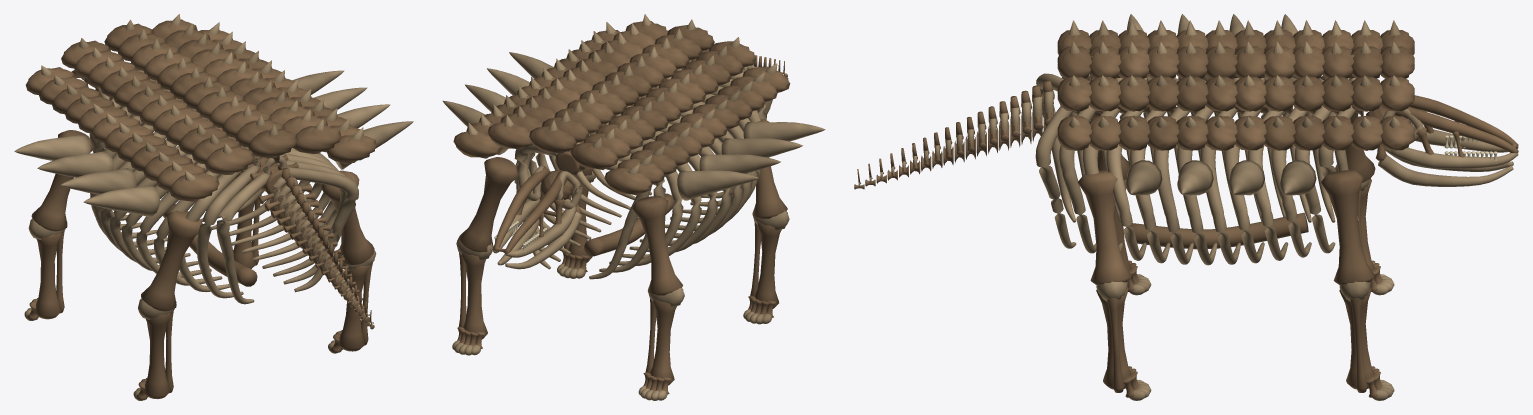
3 views of the same model, side by side, from view 1: azimuth 30°, elevation 25°; view 2: azimuth 150°, elevation 25°; view 3: azimuth 270°, elevation 25° (orthographic). The views are drawn at different scales.
Parts seen in each view (by area): view 1: D03_SPEC_Fossil umber_export, D03_SPEC_Fossil ridge_export; view 2: D03_SPEC_Fossil umber_export, D03_SPEC_Fossil ridge_export; view 3: D03_SPEC_Fossil umber_export, D03_SPEC_Fossil ridge_export.
Boxes of the visible parts, x1,y1,x2,y2 form: D03_SPEC_Fossil umber_export: (25,19,376,400); D03_SPEC_Fossil ridge_export: (14,14,413,400); D03_SPEC_Fossil umber_export: (453,21,790,394); D03_SPEC_Fossil ridge_export: (443,14,825,400); D03_SPEC_Fossil umber_export: (854,30,1518,397); D03_SPEC_Fossil ridge_export: (858,14,1518,400).
Size of the model in its own units: 2.48 by 1.94 by 3.88.
